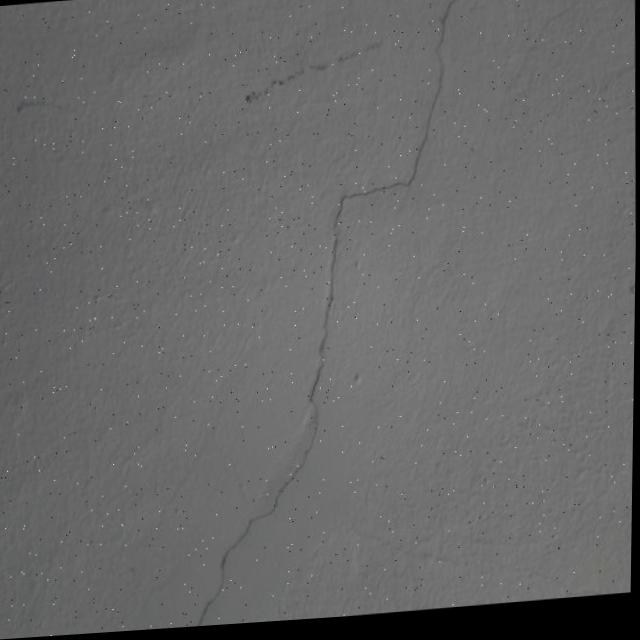Crack: (174, 0, 479, 631)
